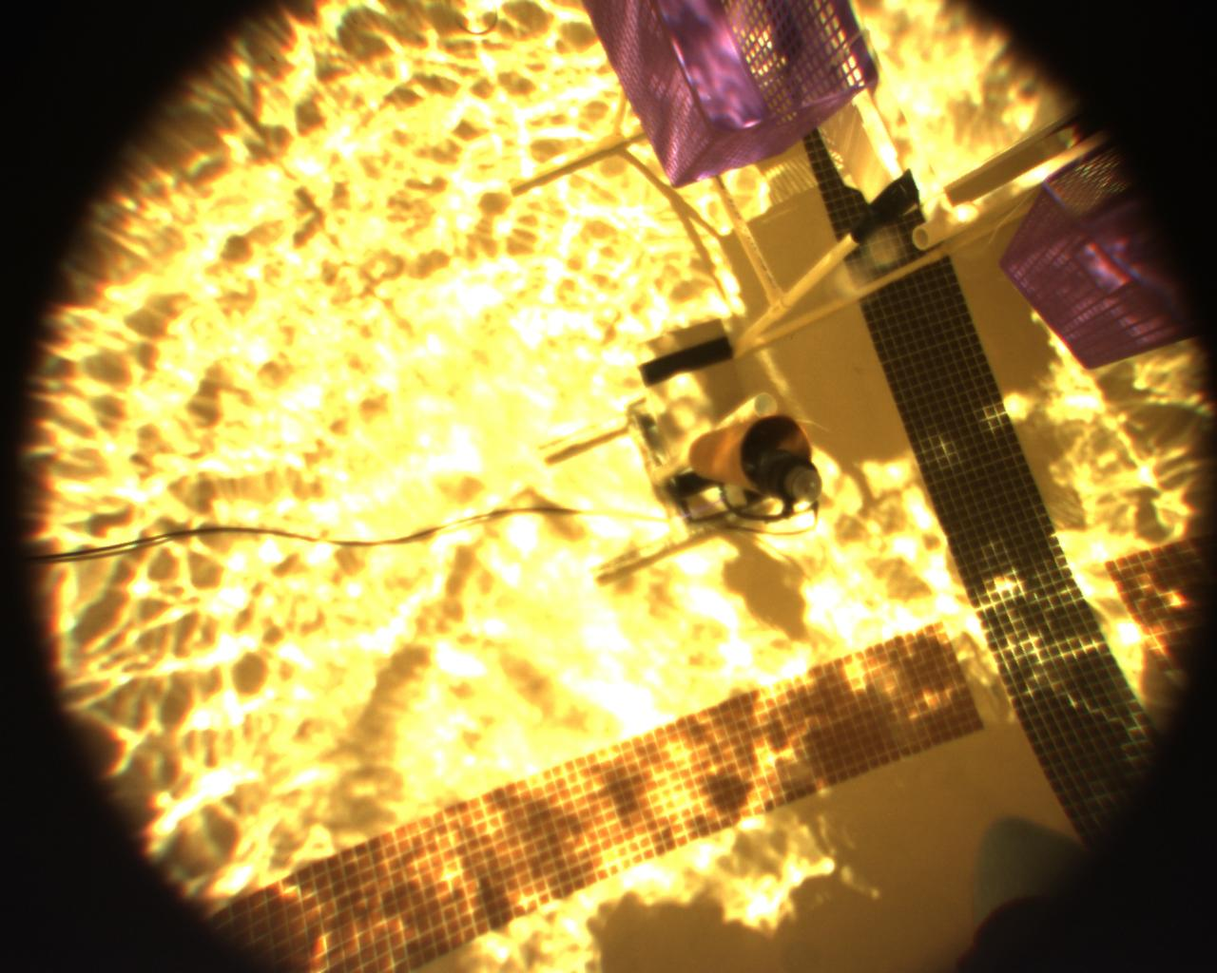coral-box-top: (776, 0, 1099, 269)
